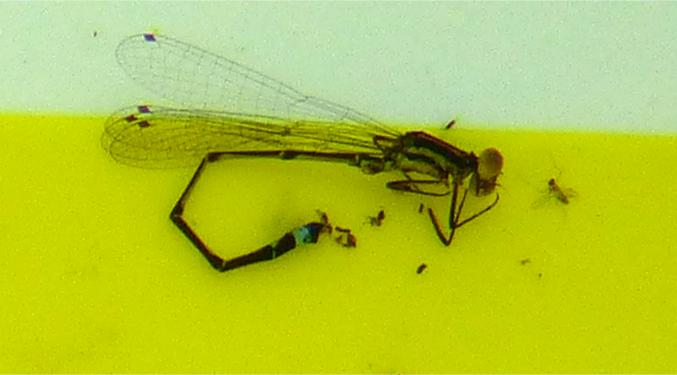Nematocera: (538, 181, 577, 211)
Odonata: (100, 100, 512, 275)
